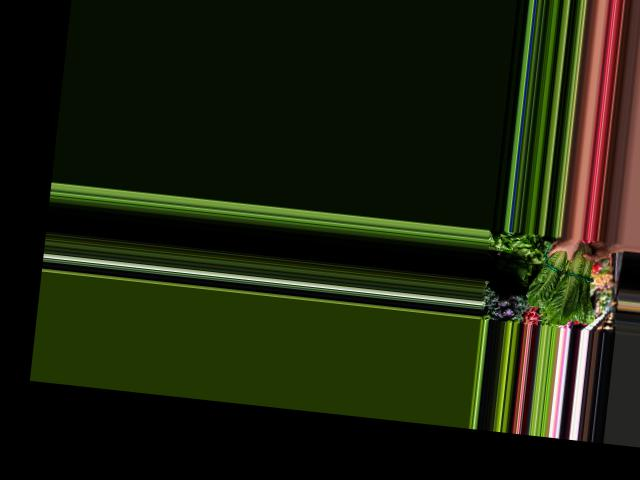lettuce: (523, 233, 599, 324)
